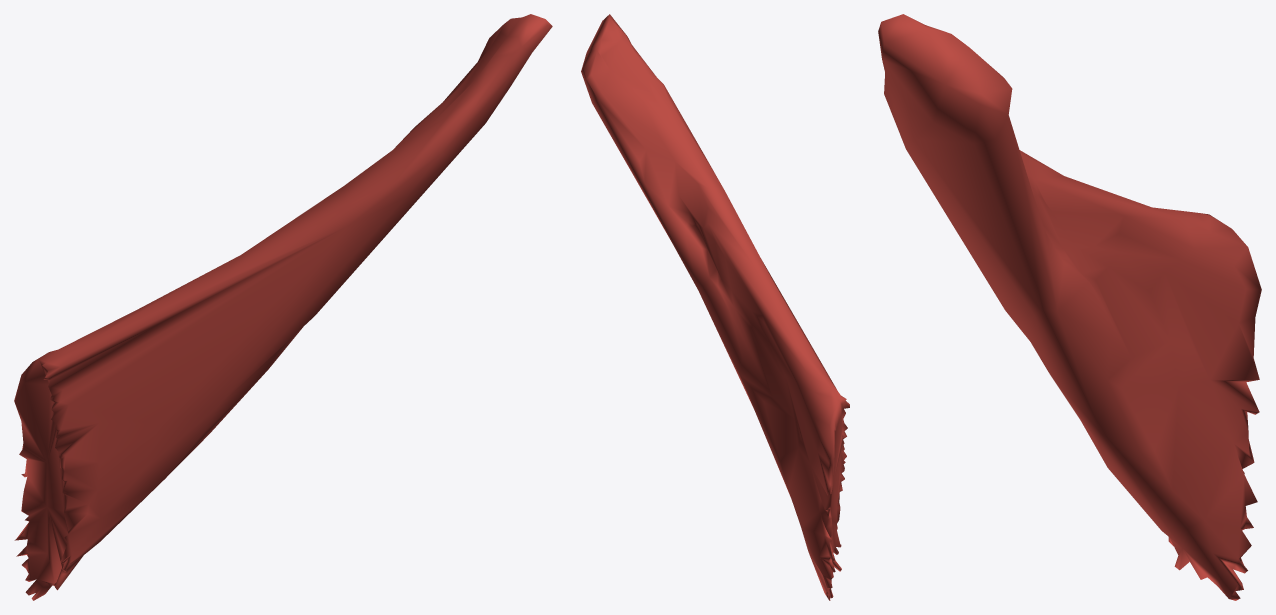
The model's file is musculos-adductor-minimus-r.glb.
3 views of the same model, side by side, from view 1: azimuth 30°, elevation 25°; view 2: azimuth 150°, elevation 25°; view 3: azimuth 270°, elevation 25° (orthographic). The views are drawn at different scales.
Visible parts, largest first — view 1: (Adductor minimus).r; view 2: (Adductor minimus).r; view 3: (Adductor minimus).r.
Boxes of the visible parts, box(x1,y1,x2,y2) form: (Adductor minimus).r: box(14, 14, 552, 600); (Adductor minimus).r: box(581, 14, 849, 600); (Adductor minimus).r: box(878, 14, 1261, 600).
Size of the model in its own units: 0.0801 by 0.1044 by 0.0412.
